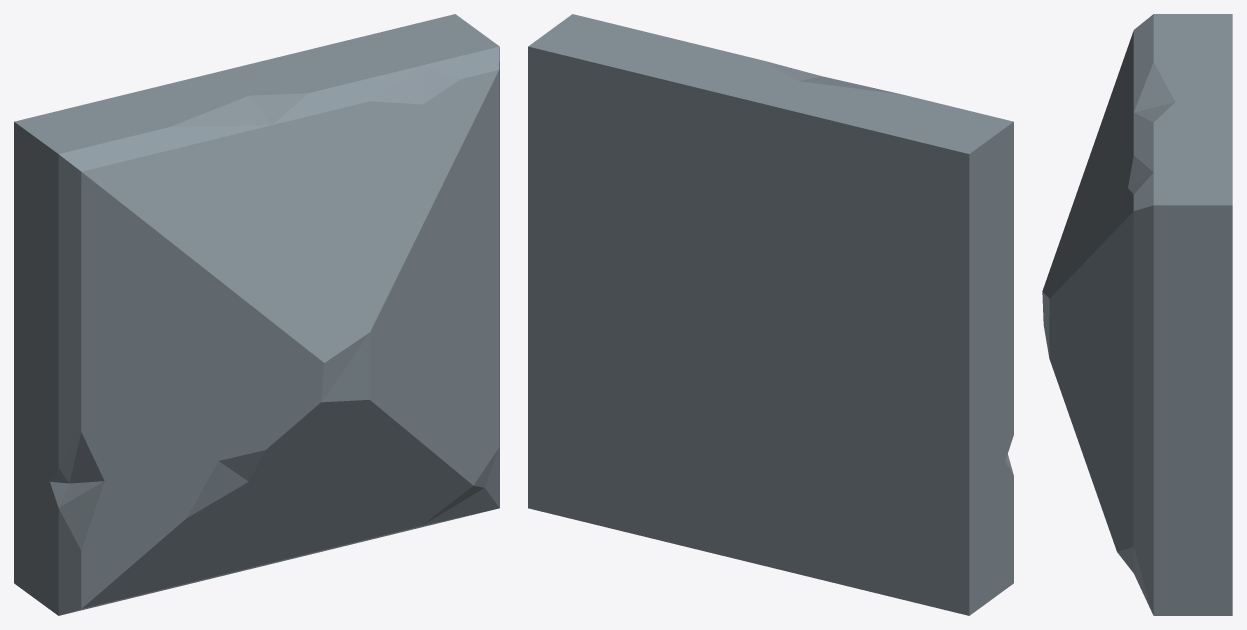
File: SM_Prop_Wall_Panel_Small_01.fbx
3 renders of one model, left to right at view 1: azimuth 30°, elevation 25°; view 2: azimuth 150°, elevation 25°; view 3: azimuth 270°, elevation 25°, orthographic. The views are drawn at different scales.
Parts seen in each view (by area): view 1: SM_Prop_Wall_Panel_Small_01; view 2: SM_Prop_Wall_Panel_Small_01; view 3: SM_Prop_Wall_Panel_Small_01.
Boxes of the visible parts, box(x1,y1,x2,y2) form: SM_Prop_Wall_Panel_Small_01: box(14, 14, 499, 615); SM_Prop_Wall_Panel_Small_01: box(528, 14, 1013, 615); SM_Prop_Wall_Panel_Small_01: box(1042, 14, 1232, 615).
Bounding box in the file's own units: 50.04 × 50.04 × 21.02.
1 material, 1 textured.
